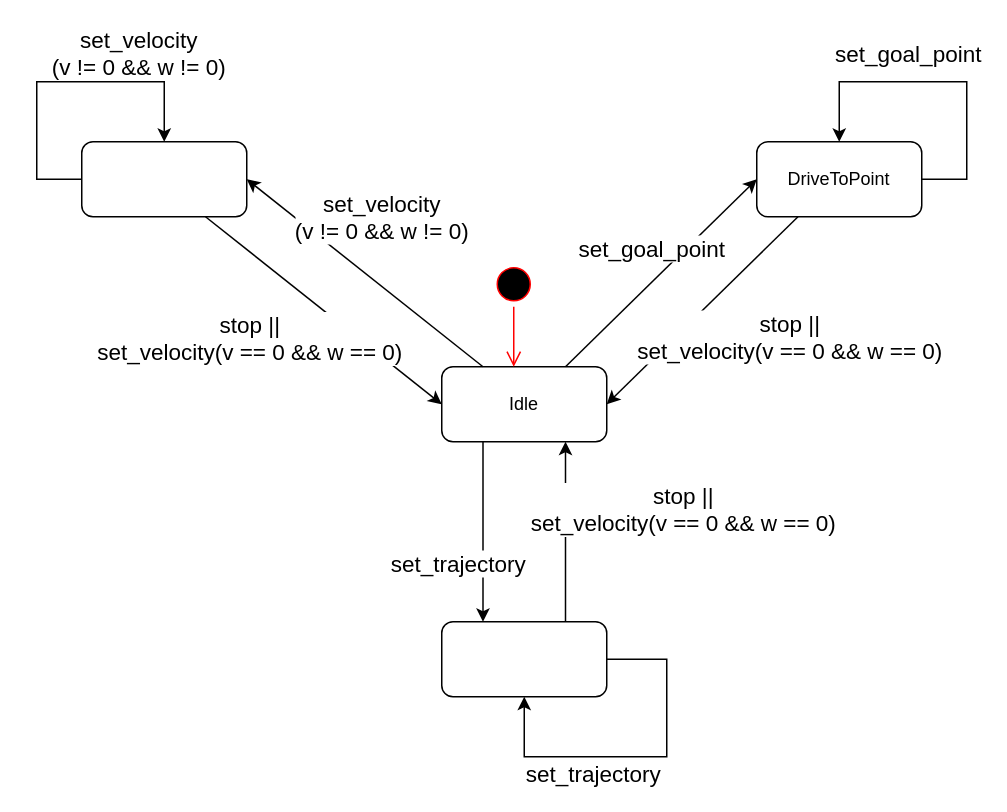
Image size: 1007x812. Some labels were removed from this diagram. Here are the shapes that lost their labels. From the top down, the box of each, then its label:
(80, 140, 247, 217): DriveWithVelocity
(440, 620, 607, 697): FollowTrajectory
